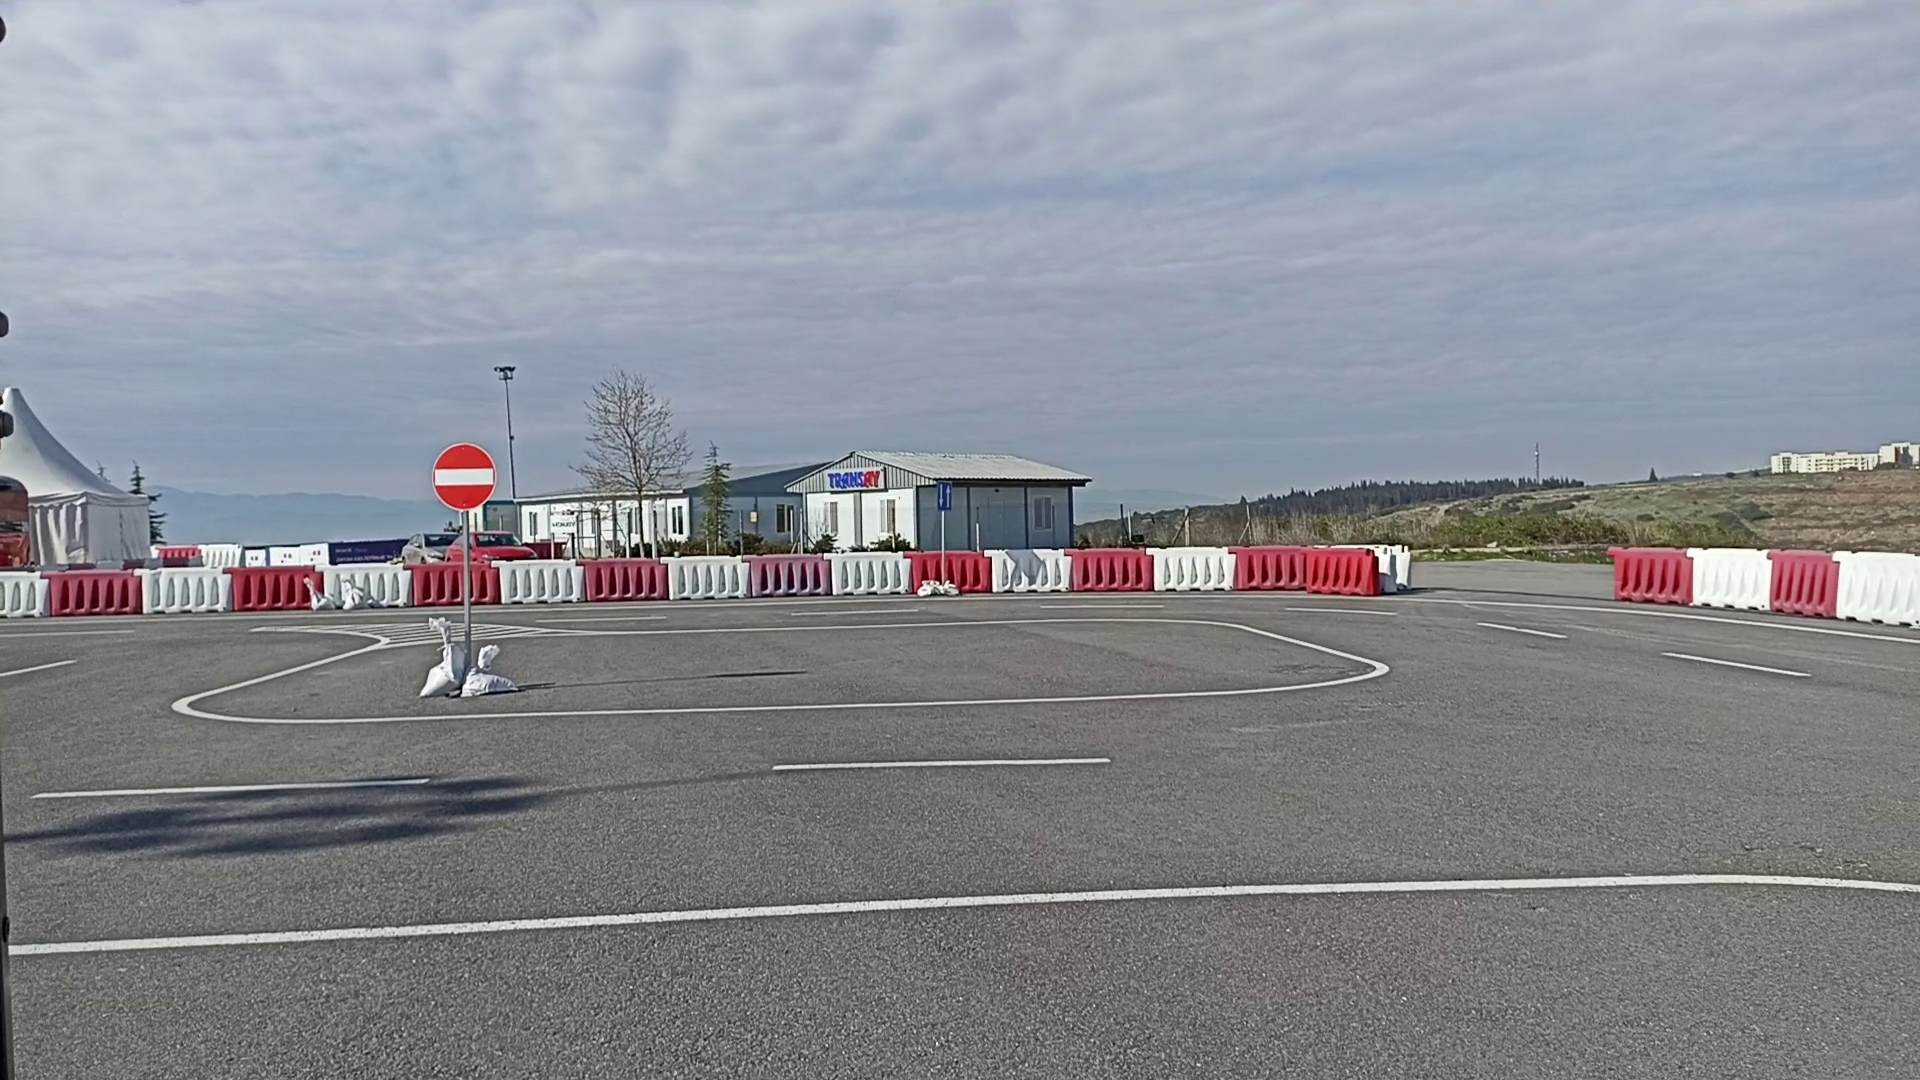noentryway: (429, 440, 497, 512)
